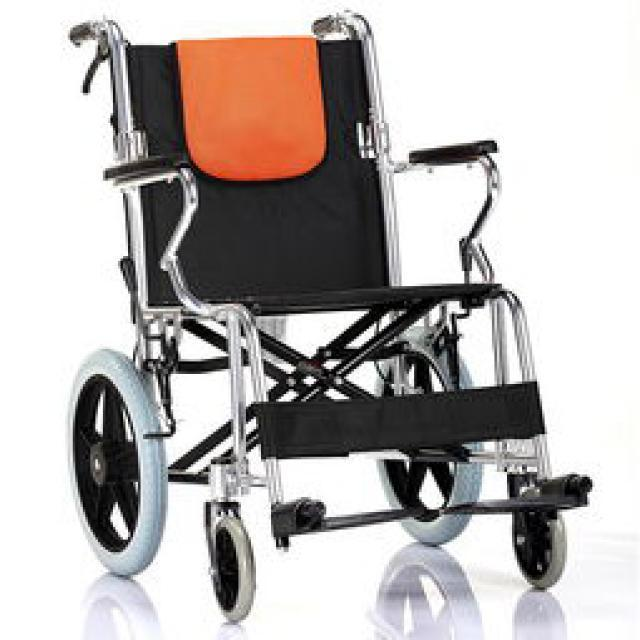wheelchairs: (62, 10, 584, 615)
